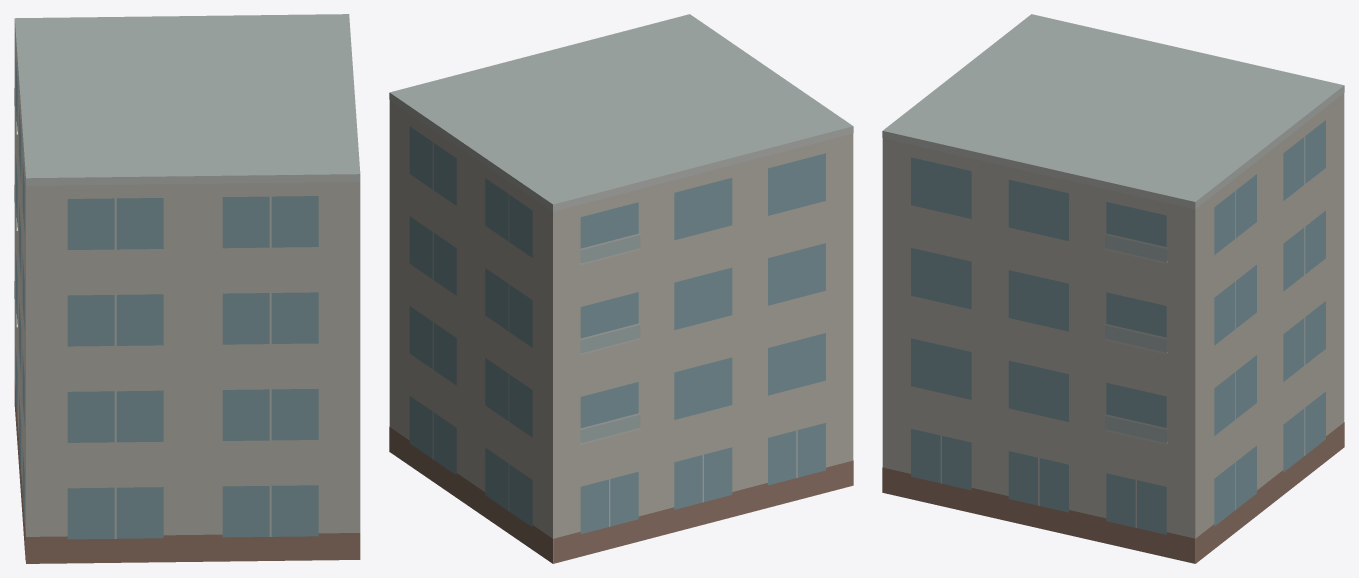
The model's file is residential-e7c25249-b9e0-4dae-8cac-db257d4c5def.glb.
The picture shows the model from 3 angles, left to right: view 1: azimuth 30°, elevation 25°; view 2: azimuth 150°, elevation 25°; view 3: azimuth 270°, elevation 25°; orthographic projection. The views are drawn at different scales.
Visible parts, largest first — view 1: residential-e7c25249-b9e0-4dae-8cac-db257d4c5def.tmp; view 2: residential-e7c25249-b9e0-4dae-8cac-db257d4c5def.tmp; view 3: residential-e7c25249-b9e0-4dae-8cac-db257d4c5def.tmp.
Boxes of the visible parts, box(x1,y1,x2,y2) form: residential-e7c25249-b9e0-4dae-8cac-db257d4c5def.tmp: box(14, 14, 360, 563); residential-e7c25249-b9e0-4dae-8cac-db257d4c5def.tmp: box(389, 14, 853, 563); residential-e7c25249-b9e0-4dae-8cac-db257d4c5def.tmp: box(882, 14, 1344, 563).
Size of the model in its own units: 13.6 by 12.2 by 14.13.
